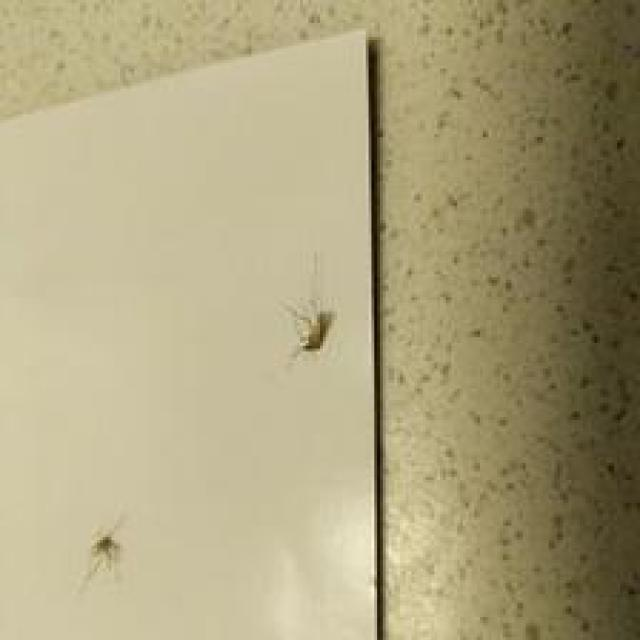Culex: (77, 513, 129, 593)
